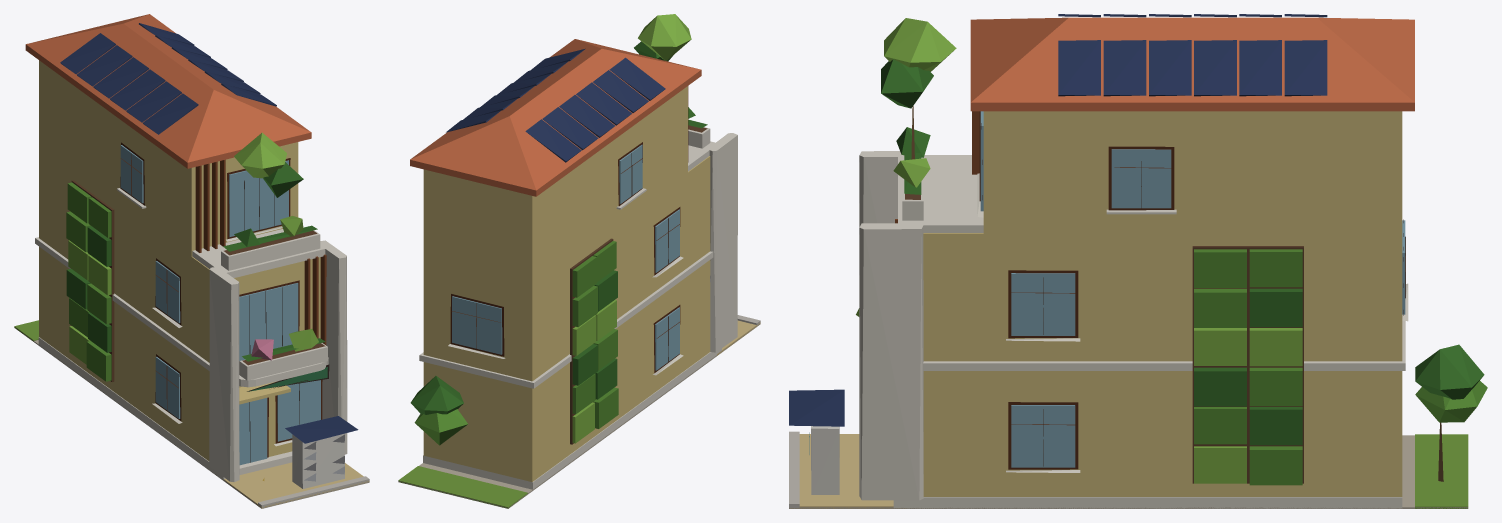
Rendered from bay1_one.glb.
3 views of the same model, side by side, from view 1: azimuth 30°, elevation 25°; view 2: azimuth 150°, elevation 25°; view 3: azimuth 270°, elevation 25° (orthographic). The views are drawn at different scales.
Parts seen in each view (by area): view 1: body; view 2: body; view 3: body.
Boxes of the visible parts, x1,y1,x2,y2 form: body: [14, 14, 369, 508]; body: [398, 14, 760, 508]; body: [789, 14, 1487, 508].
Size of the model in its own units: 4.62 by 11.75 by 16.36.
